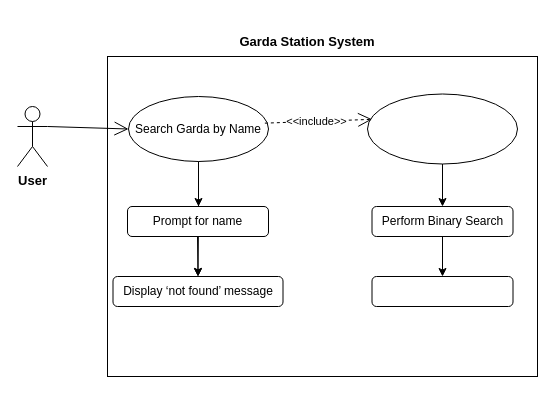
The diagram is 555 pixels wide and 394 high, and some of its shapes have lost their labels. The centre of each missing label's shape, as x and y in pixels:
Display result: (442,291)
Sort Gardaí Alphabetically: (442,128)
